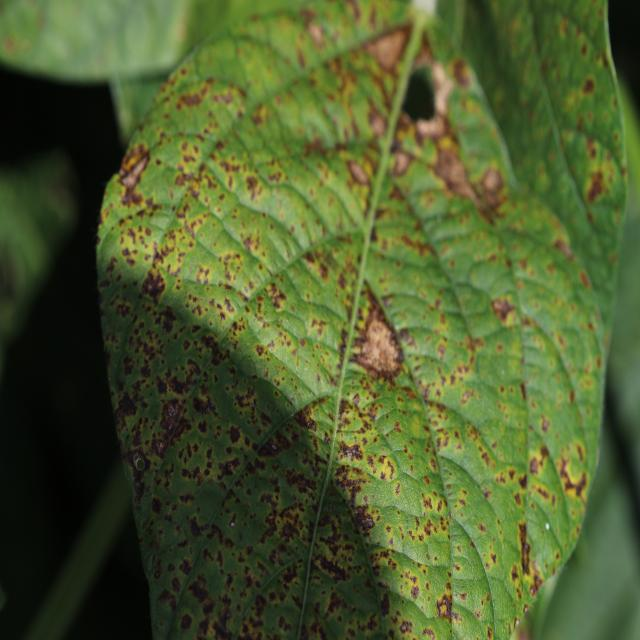Bacterial_Blight: (352, 283, 406, 394), (430, 140, 492, 207), (364, 26, 409, 72), (117, 151, 151, 207), (263, 502, 308, 544), (157, 397, 189, 448), (415, 103, 450, 144), (126, 445, 152, 490), (561, 464, 587, 497), (147, 242, 173, 275), (517, 521, 531, 581), (255, 434, 284, 460), (142, 269, 166, 300), (352, 503, 376, 532), (586, 169, 606, 202), (491, 296, 516, 322), (347, 159, 370, 187), (115, 391, 138, 419), (192, 393, 216, 418), (452, 58, 472, 86), (339, 442, 364, 464), (554, 237, 575, 261), (368, 110, 386, 138), (294, 409, 314, 432), (437, 593, 453, 618), (306, 136, 327, 154), (529, 456, 540, 474)
Soybean: (97, 0, 626, 640)
